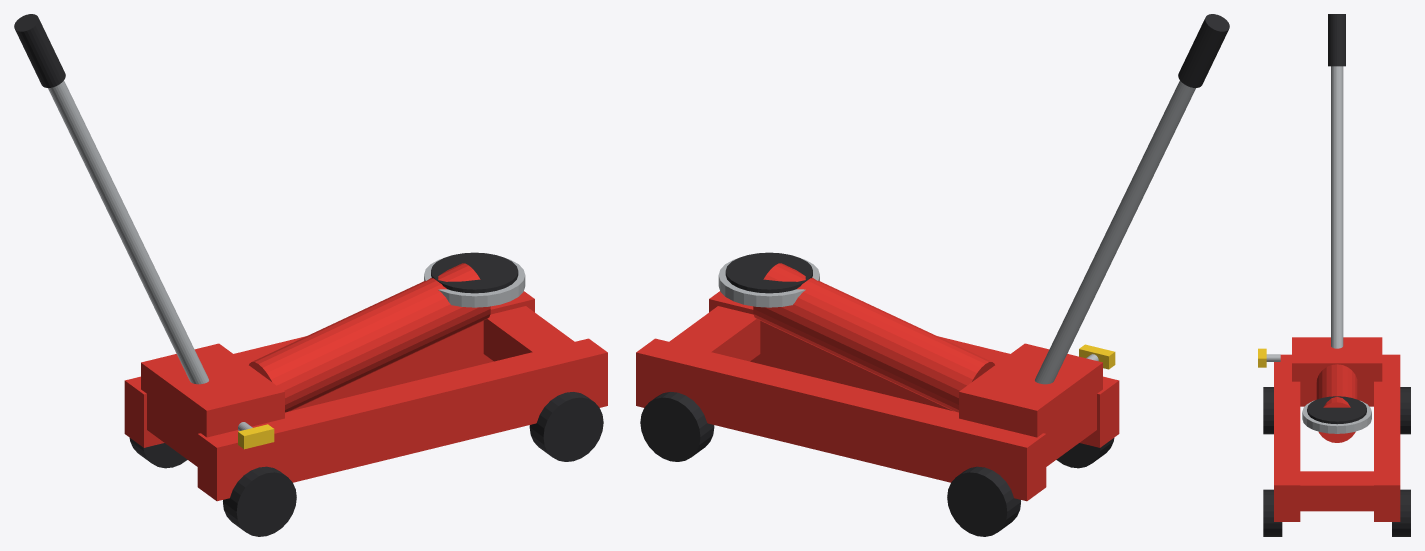
Rendered from training-floor-jack.glb.
3 views of the same model, side by side, from view 1: azimuth 30°, elevation 25°; view 2: azimuth 150°, elevation 25°; view 3: azimuth 270°, elevation 25° (orthographic). The views are drawn at different scales.
Parts seen in each view (by area): view 1: FrameRailRight, LiftArmBeam, RearPumpHousing, FrameRailLeft, OperatingHandleShaft, JackWheelRearRight, JackWheelFrontRight, FrontCrossMember, SaddleRubberPad, OperatingHandleGrip, JackSaddle, JackWheelRearLeft (+1 smaller); view 2: FrameRailLeft, LiftArmBeam, RearPumpHousing, FrameRailRight, OperatingHandleShaft, JackWheelRearLeft, JackWheelFrontLeft, FrontCrossMember, SaddleRubberPad, OperatingHandleGrip, JackSaddle, JackWheelRearRight; view 3: FrameRailLeft, FrameRailRight, RearPumpHousing, OperatingHandleShaft, FrontCrossMember, LiftArmBeam, SaddleRubberPad, OperatingHandleGrip, JackSaddle, JackWheelFrontRight, JackWheelFrontLeft, JackWheelRearLeft (+1 smaller).
Boxes of the visible parts, bbox=[...] form: FrameRailRight: bbox=[197, 338, 607, 501]; LiftArmBeam: bbox=[249, 263, 490, 412]; RearPumpHousing: bbox=[141, 343, 284, 466]; FrameRailLeft: bbox=[124, 291, 534, 447]; OperatingHandleShaft: bbox=[48, 80, 208, 384]; JackWheelRearRight: bbox=[223, 466, 296, 536]; JackWheelFrontRight: bbox=[529, 392, 603, 461]; FrontCrossMember: bbox=[483, 306, 574, 361]; SaddleRubberPad: bbox=[431, 252, 518, 293]; OperatingHandleGrip: bbox=[14, 14, 65, 87]; JackSaddle: bbox=[424, 258, 525, 307]; JackWheelRearLeft: bbox=[129, 438, 187, 468]; FrameRailLeft: bbox=[636, 338, 1046, 501]; LiftArmBeam: bbox=[753, 263, 994, 412]; RearPumpHousing: bbox=[959, 343, 1102, 466]; FrameRailRight: bbox=[709, 291, 1119, 447]; OperatingHandleShaft: bbox=[1035, 80, 1195, 384]; JackWheelRearLeft: bbox=[947, 466, 1020, 536]; JackWheelFrontLeft: bbox=[640, 392, 714, 461]; FrontCrossMember: bbox=[645, 306, 760, 398]; SaddleRubberPad: bbox=[725, 252, 812, 293]; OperatingHandleGrip: bbox=[1178, 14, 1229, 87]; JackSaddle: bbox=[718, 258, 819, 307]; JackWheelRearRight: bbox=[1056, 438, 1114, 468]; FrameRailLeft: bbox=[1374, 354, 1400, 521]; FrameRailRight: bbox=[1274, 354, 1300, 521]; RearPumpHousing: bbox=[1292, 337, 1382, 406]; OperatingHandleShaft: bbox=[1331, 66, 1343, 348]; FrontCrossMember: bbox=[1300, 471, 1373, 511]; LiftArmBeam: bbox=[1316, 364, 1357, 442]; SaddleRubberPad: bbox=[1307, 396, 1366, 424]; OperatingHandleGrip: bbox=[1328, 14, 1345, 66]; JackSaddle: bbox=[1302, 400, 1371, 433]; JackWheelFrontRight: bbox=[1263, 489, 1282, 536]; JackWheelFrontLeft: bbox=[1392, 489, 1410, 536]; JackWheelRearLeft: bbox=[1400, 387, 1410, 434].
Bounding box in the file's own units: 0.9073 × 0.8328 × 0.321.
